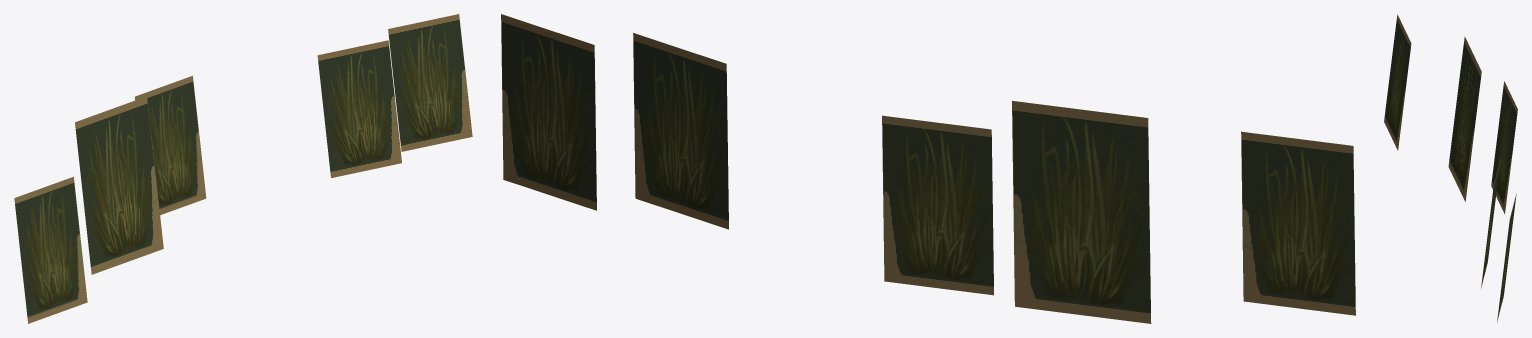
The model's file is object_grass_polys03.fbx.
The picture shows the model from 3 angles, left to right: view 1: azimuth 30°, elevation 25°; view 2: azimuth 150°, elevation 25°; view 3: azimuth 270°, elevation 25°; orthographic projection. The views are drawn at different scales.
Visible parts, largest first — view 1: obj0.060; view 2: obj0.060; view 3: obj0.060.
Part boxes in pixels (left/top/right/bottom): obj0.060: left=14, top=14, right=472, bottom=323; obj0.060: left=501, top=14, right=1355, bottom=323; obj0.060: left=1384, top=14, right=1517, bottom=322.
Size of the model in its own units: 9.87 by 2.72 by 2.57.
